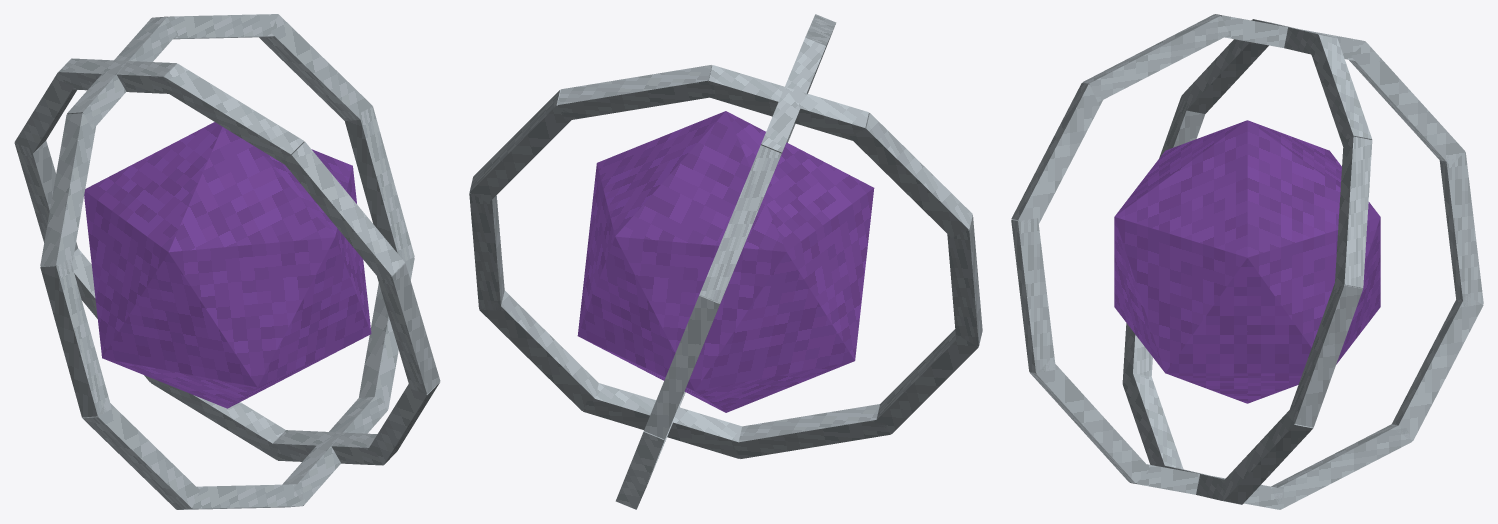
The model's file is powerup_quad_damage.glb.
The picture shows the model from 3 angles, left to right: view 1: azimuth 30°, elevation 25°; view 2: azimuth 150°, elevation 25°; view 3: azimuth 270°, elevation 25°; orthographic projection. The views are drawn at different scales.
Parts seen in each view (by area): view 1: powerup_quad_damage; view 2: powerup_quad_damage; view 3: powerup_quad_damage.
Boxes of the visible parts, x1,y1,x2,y2 form: powerup_quad_damage: [14, 14, 440, 509]; powerup_quad_damage: [469, 14, 982, 509]; powerup_quad_damage: [1011, 14, 1483, 509].
Size of the model in its own units: 0.6645 by 0.6718 by 0.6645.
Materials: 2 (2 with a texture image).
